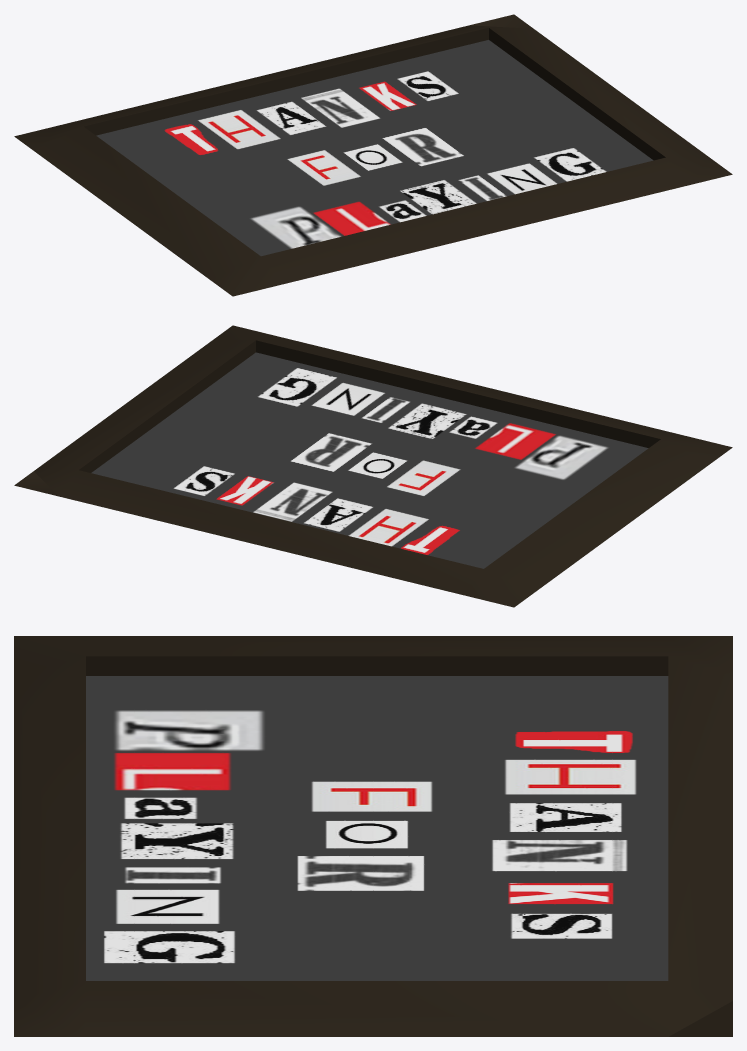
The model's file is Painting16.fbx.
3 views of the same model, one above another, from view 1: azimuth 30°, elevation 25°; view 2: azimuth 150°, elevation 25°; view 3: azimuth 270°, elevation 25° (orthographic). The views are drawn at different scales.
Parts seen in each view (by area): view 1: pPlane1, pCube1; view 2: pPlane1, pCube1; view 3: pPlane1, pCube1.
Boxes of the visible parts, <box> form: pPlane1: <box>96,40,653,256</box>; pCube1: <box>14,14,732,296</box>; pPlane1: <box>91,352,648,568</box>; pCube1: <box>14,325,732,607</box>; pPlane1: <box>86,676,668,980</box>; pCube1: <box>14,636,732,1036</box>.
Size of the model in its own units: 9.39 by 0.4312 by 7.11.
Materials: 2 (1 with a texture image).
